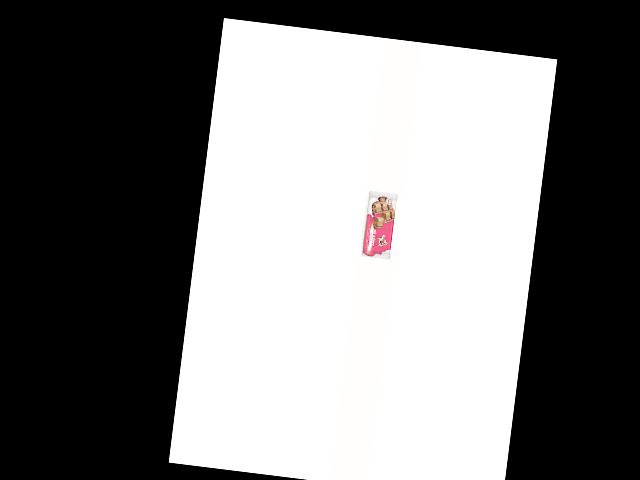chocolate: (355, 188, 400, 261)
